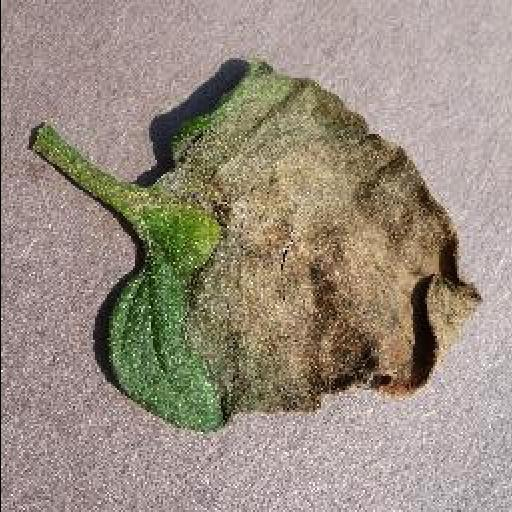disease_tomato: (103, 60, 481, 438)
